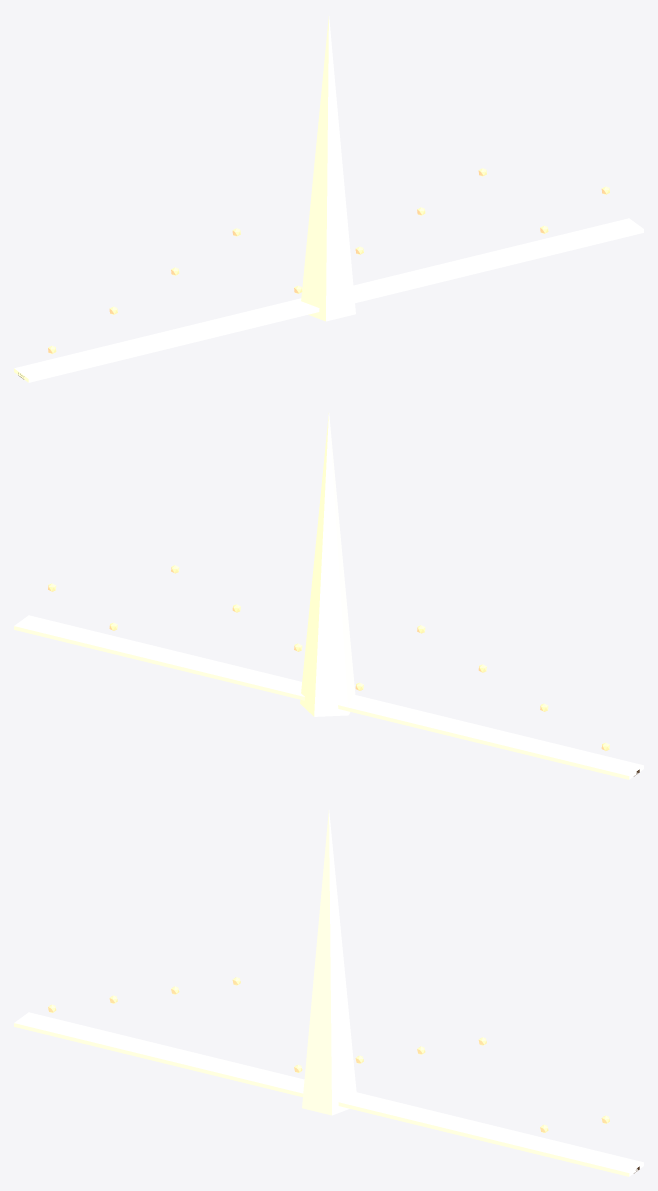
File: deform-fracture-seam.glb
The picture shows the model from 3 angles, top to bottom: view 1: azimuth 30°, elevation 25°; view 2: azimuth 150°, elevation 25°; view 3: azimuth 330°, elevation 25°; orthographic projection.
Parts seen in each view (by area): view 1: seam-bright, seam-marker; view 2: seam-bright, seam-marker; view 3: seam-bright, seam-marker.
Part boxes in pixels (x1,y1,x2,y2): seam-bright: [14, 218, 643, 382]; seam-marker: [301, 16, 355, 321]; seam-bright: [14, 615, 643, 779]; seam-marker: [300, 413, 355, 716]; seam-bright: [14, 1012, 643, 1176]; seam-marker: [302, 810, 356, 1115].
Bounding box in the file's own units: 2.4 × 1.1 × 0.1809.
